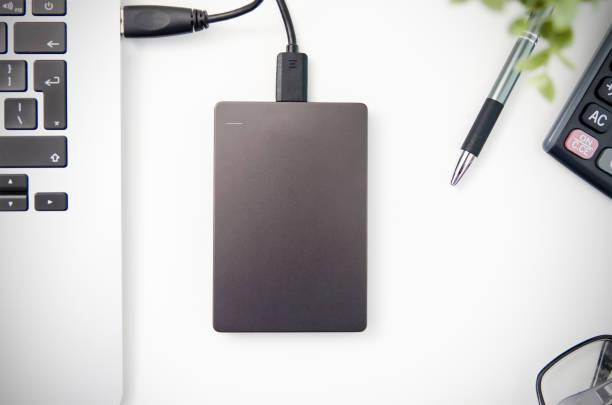HDD: (212, 101, 371, 335)
